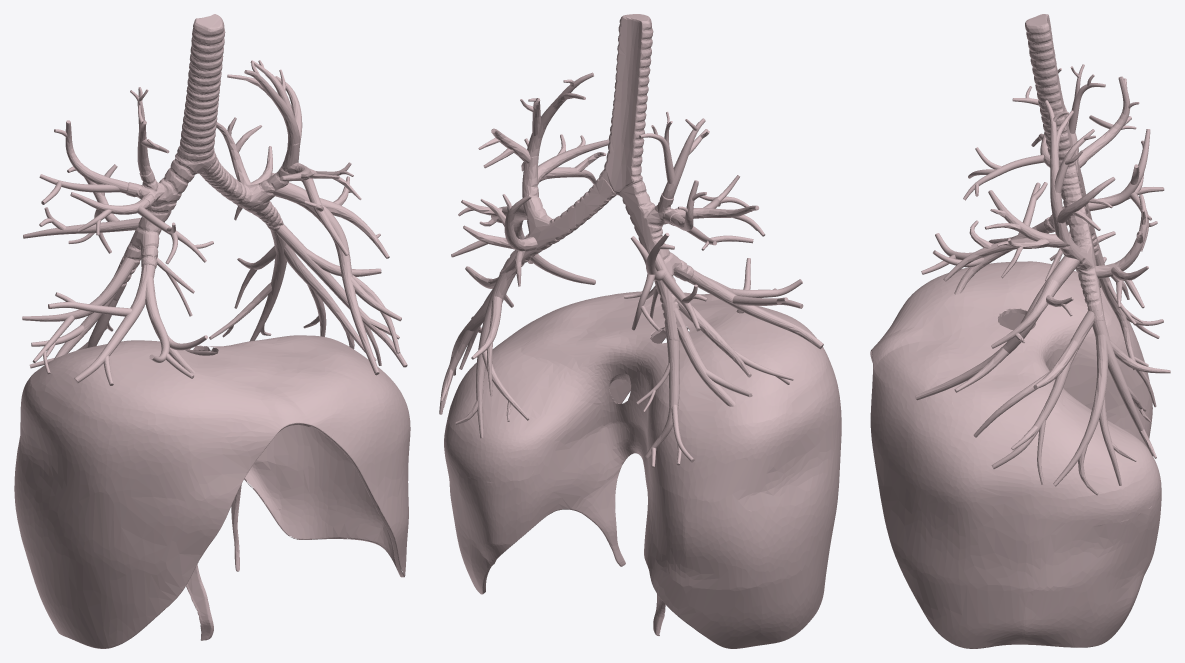
File: respiratory.glb
The picture shows the model from 3 angles, left to right: view 1: azimuth 30°, elevation 25°; view 2: azimuth 150°, elevation 25°; view 3: azimuth 270°, elevation 25°; orthographic projection. The views are drawn at different scales.
Parts seen in each view (by area): view 1: FJ3131, FJ2541, FJ2539, FJ2450, FJ2441, FJ2442, FJ2449, FJ2445, FJ2452, FJ2446, FJ2459, FJ2444 (+8 smaller); view 2: FJ3131, FJ2541, FJ2450, FJ2539, FJ2449, FJ2446, FJ2455, FJ2457, FJ2441, FJ2452, FJ2444, FJ2448 (+5 smaller); view 3: FJ3131, FJ2541, FJ2450, FJ2441, FJ2445, FJ2442, FJ2446, FJ2444, FJ2458, FJ2448, FJ2540, FJ2443 (+14 smaller).
Part boxes in pixels (<box>): FJ3131: <box>14,335,410,648</box>; FJ2541: <box>175,14,225,173</box>; FJ2539: <box>113,156,197,300</box>; FJ2450: <box>199,141,299,236</box>; FJ2441: <box>273,182,379,375</box>; FJ2442: <box>276,224,407,367</box>; FJ2449: <box>74,256,156,383</box>; FJ2445: <box>284,244,376,360</box>; FJ2452: <box>22,257,135,321</box>; FJ2446: <box>250,231,286,341</box>; FJ2459: <box>23,218,140,238</box>; FJ2444: <box>244,70,299,172</box>; FJ3131: <box>444,291,841,648</box>; FJ2541: <box>600,14,653,195</box>; FJ2450: <box>500,156,616,279</box>; FJ2539: <box>619,177,693,341</box>; FJ2449: <box>687,266,823,348</box>; FJ2446: <box>476,263,516,438</box>; FJ2455: <box>674,307,735,406</box>; FJ2457: <box>645,339,679,458</box>; FJ2441: <box>513,204,595,284</box>; FJ2452: <box>676,299,751,377</box>; FJ2444: <box>525,72,593,187</box>; FJ2448: <box>504,194,537,251</box>; FJ3131: <box>870,261,1161,648</box>; FJ2541: <box>1025,14,1077,175</box>; FJ2450: <box>1052,172,1104,322</box>; FJ2441: <box>915,256,1079,400</box>; FJ2445: <box>1053,334,1108,486</box>; FJ2442: <box>991,310,1094,468</box>; FJ2446: <box>1092,308,1152,455</box>; FJ2444: <box>1044,100,1067,246</box>; FJ2458: <box>1082,76,1130,160</box>; FJ2448: <box>1095,194,1147,278</box>; FJ2540: <box>991,279,1059,348</box>; FJ2443: <box>988,190,1066,247</box>.
Bounding box in the file's own units: 0.2452 × 0.4096 × 0.185.
